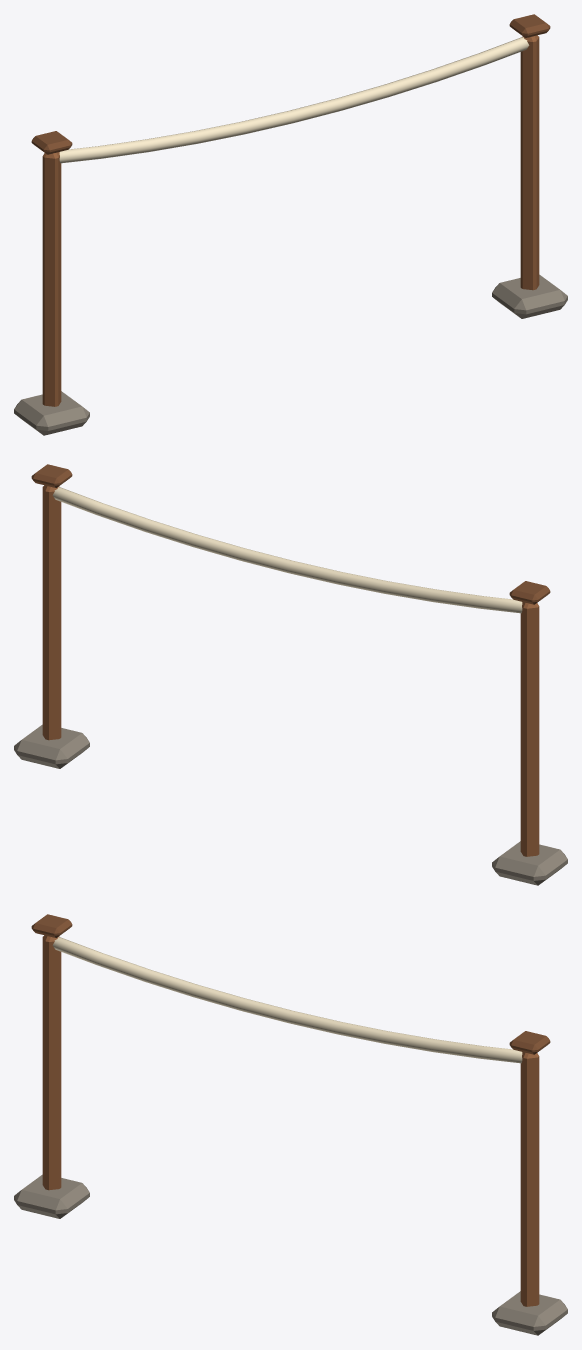
File: washing_line.glb
3 views of the same model, one above another, from view 1: azimuth 30°, elevation 25°; view 2: azimuth 150°, elevation 25°; view 3: azimuth 330°, elevation 25° (orthographic).
Parts seen in each view (by area): view 1: body; view 2: body; view 3: body.
Part boxes in pixels (<box>): body: <box>14,14,567,435</box>; body: <box>14,464,567,885</box>; body: <box>14,914,567,1335</box>.
Size of the model in its own units: 4.45 by 2.28 by 0.45.
